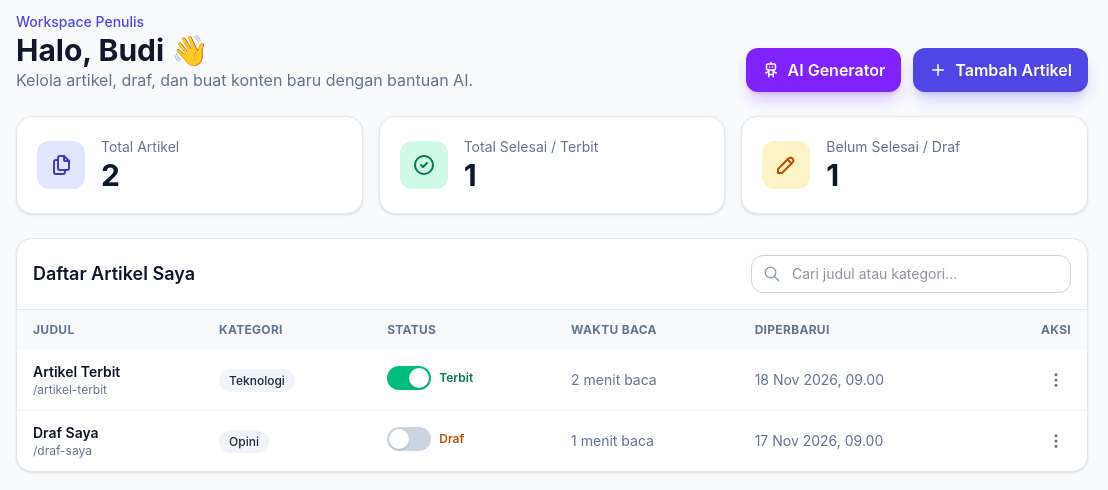
AuthorDashboard › pencarian dan state kosong
Expected: the text "Artikel Terbit" is shown, [33,363,120,380]
In the search field named "Cari artikel saya": [911, 274] box [751,255,1071,293], type "opini"
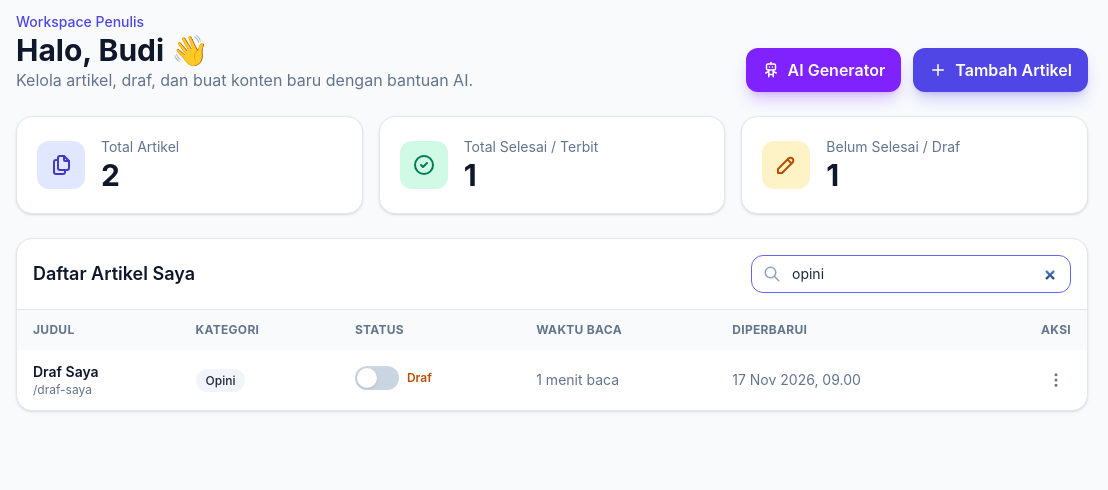
Expected: the text "Draf Saya" is shown, [33,363,99,380]
Now the text "Artikel Terbit" is gone
In the search field named "Cari artikel saya": [911, 274] box [751,255,1071,293], type "zzz"
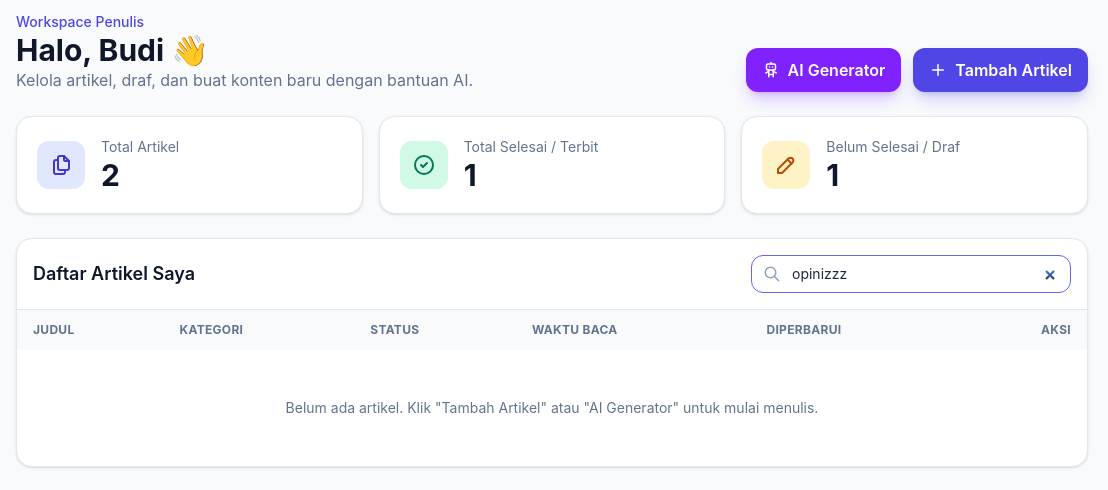
Now the text "Belum ada artikel" is shown, box [286,399,818,416]
